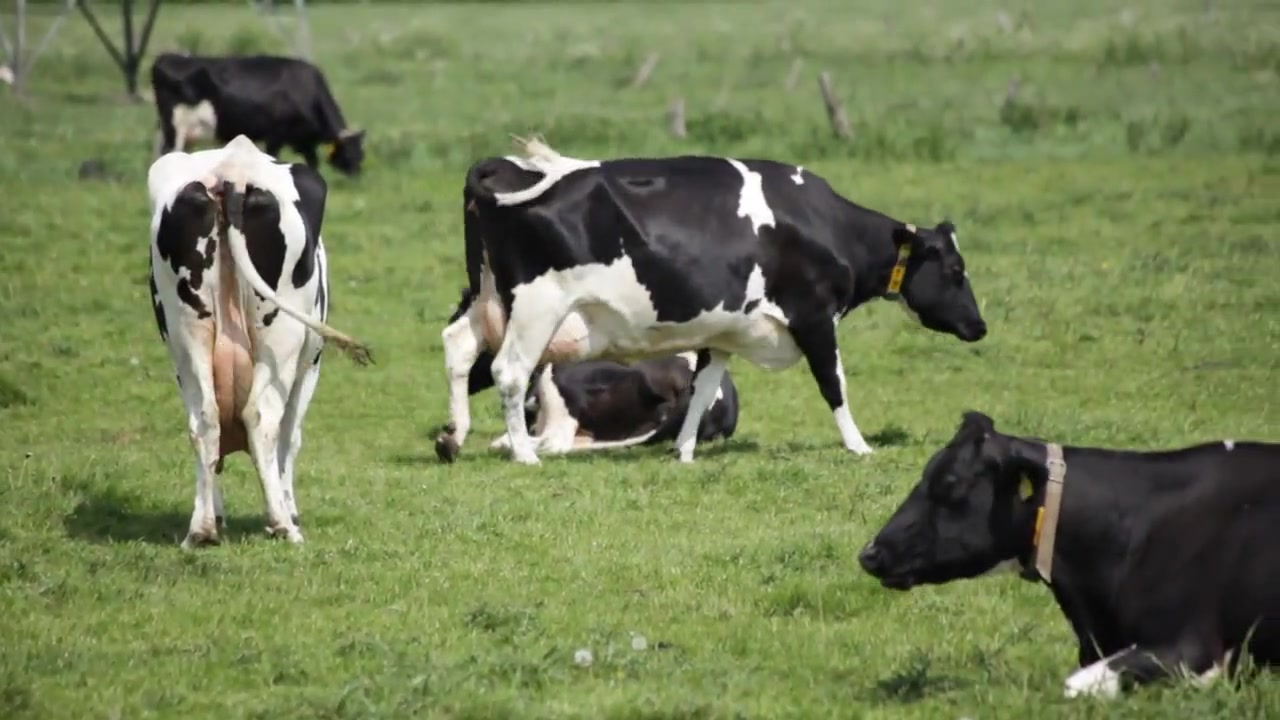cow: (437, 140, 985, 464)
